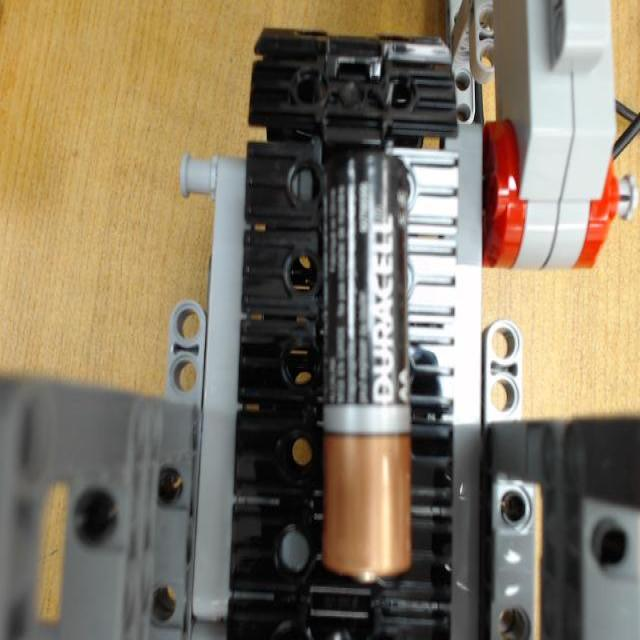AA: (314, 139, 412, 584)
